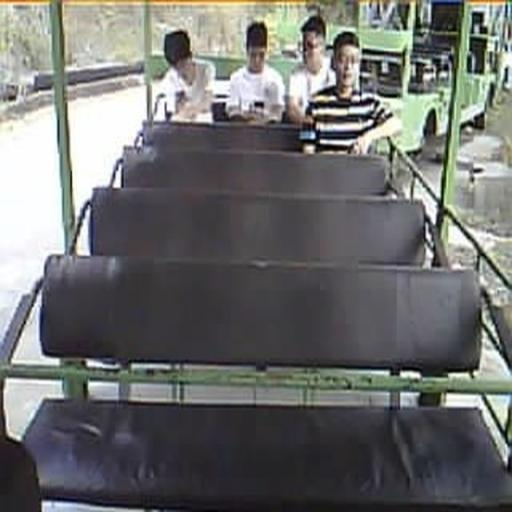persona: (301, 30, 402, 156), (225, 21, 286, 124), (153, 28, 216, 121), (286, 15, 338, 124)
